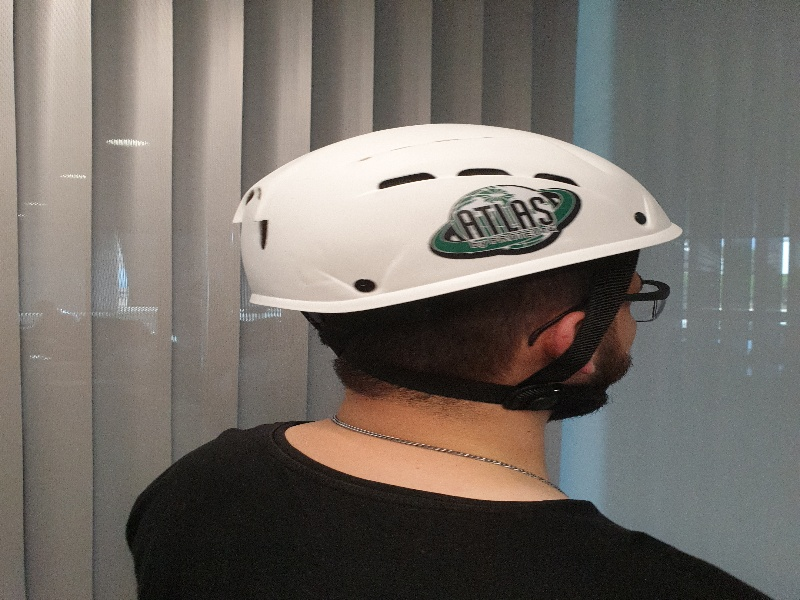Baret: (242, 123, 688, 295)
